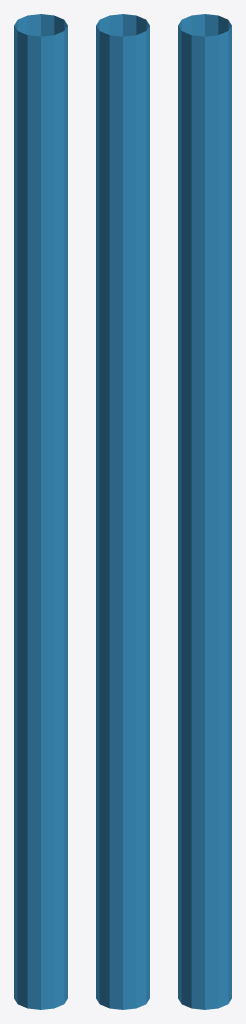
Rendered from LongPole.fbx.
The picture shows the model from 3 angles, left to right: view 1: azimuth 90°, elevation 25°; view 2: azimuth 210°, elevation 25°; view 3: azimuth 270°, elevation 25°; orthographic projection.
Visible parts, largest first — view 1: ベジエカーブ; view 2: ベジエカーブ; view 3: ベジエカーブ.
Boxes of the visible parts, bbox=[...] form: ベジエカーブ: bbox=[14, 14, 67, 1009]; ベジエカーブ: bbox=[96, 14, 149, 1009]; ベジエカーブ: bbox=[178, 14, 231, 1009].
Size of the model in its own units: 40 by 800 by 40.
